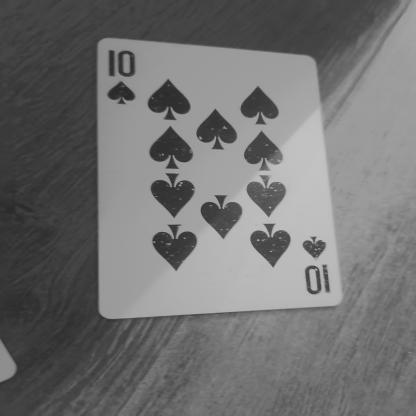10S: (92, 42, 154, 112), (300, 226, 340, 301)
